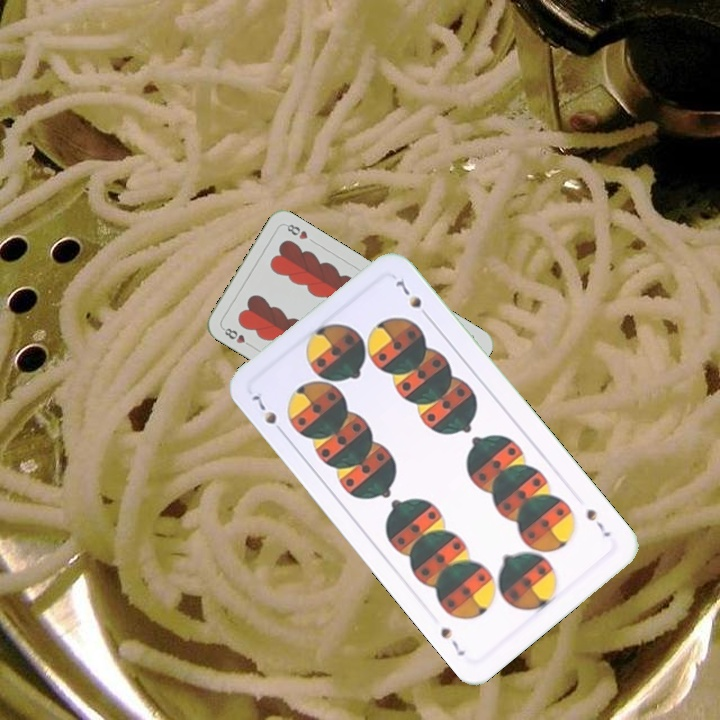H8: (219, 323, 255, 350)
S7: (246, 388, 288, 439), (582, 505, 614, 540)
